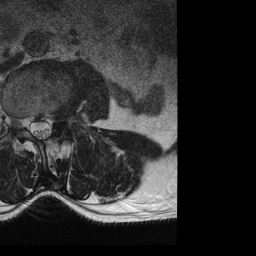CCS_normal: (36, 107, 44, 145)
LFS_normal: (53, 101, 62, 128)
LLS_normal: (44, 107, 53, 141)
RFS_normal: (17, 106, 27, 134)
RLS_normal: (26, 107, 36, 140)
